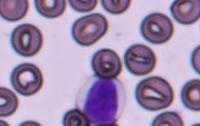L: (75, 75, 125, 126)
